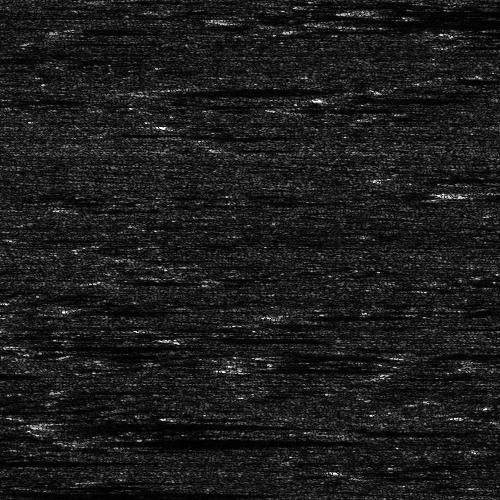object: (0, 432, 188, 449), (0, 414, 124, 429), (280, 11, 363, 30), (410, 25, 493, 40), (339, 4, 412, 13), (426, 189, 489, 196), (372, 351, 435, 358), (8, 341, 61, 348), (176, 334, 229, 341), (166, 83, 207, 92), (279, 312, 332, 317), (220, 367, 261, 370)
shadow: (83, 432, 328, 449), (62, 414, 298, 429), (321, 11, 500, 30), (187, 83, 354, 92), (376, 4, 500, 13), (35, 341, 189, 348), (0, 454, 75, 467), (203, 334, 326, 341), (451, 25, 500, 40), (404, 351, 500, 358), (241, 367, 408, 370), (306, 312, 391, 317), (457, 189, 500, 196), (0, 368, 21, 377)
